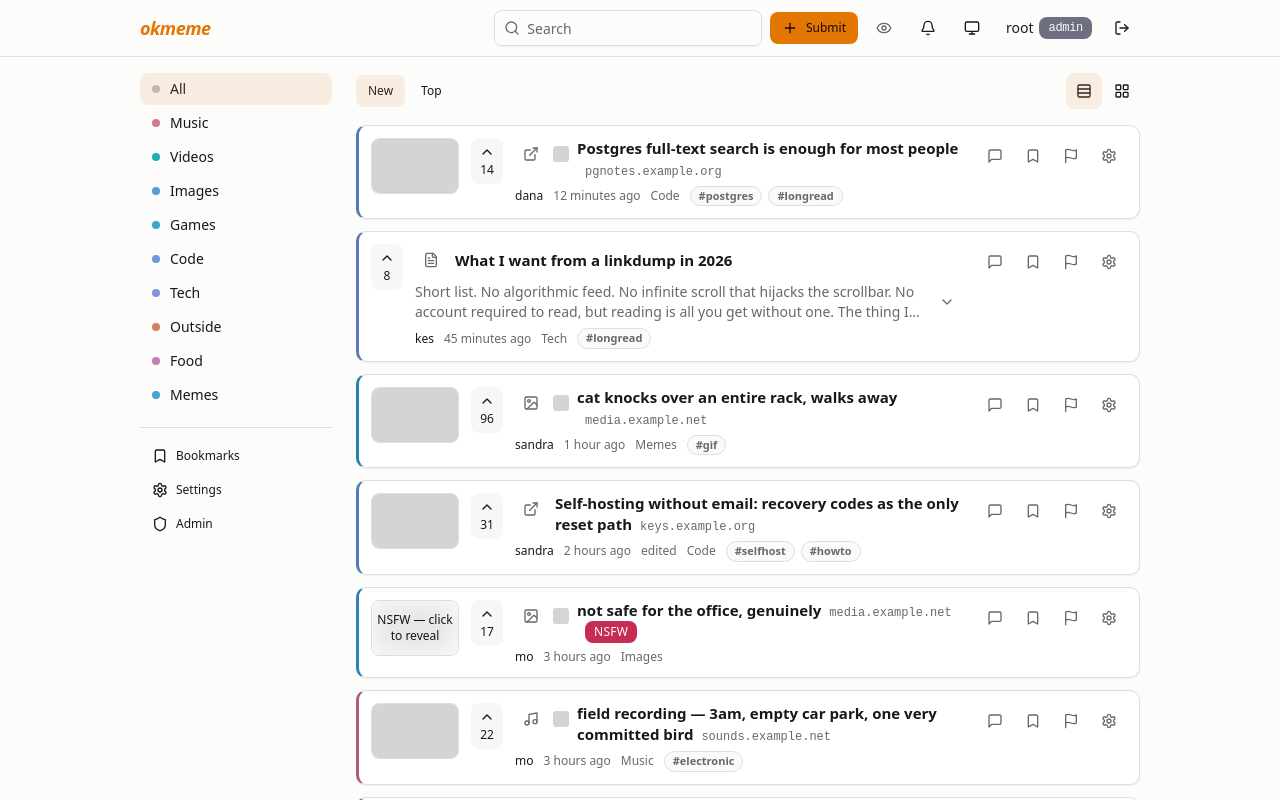
Test: view as › previews the feed as a lower tier from the header, read-only, and leaves again
Press Enter in the button named "View the site as a lower tier", box [866,10,902,46]
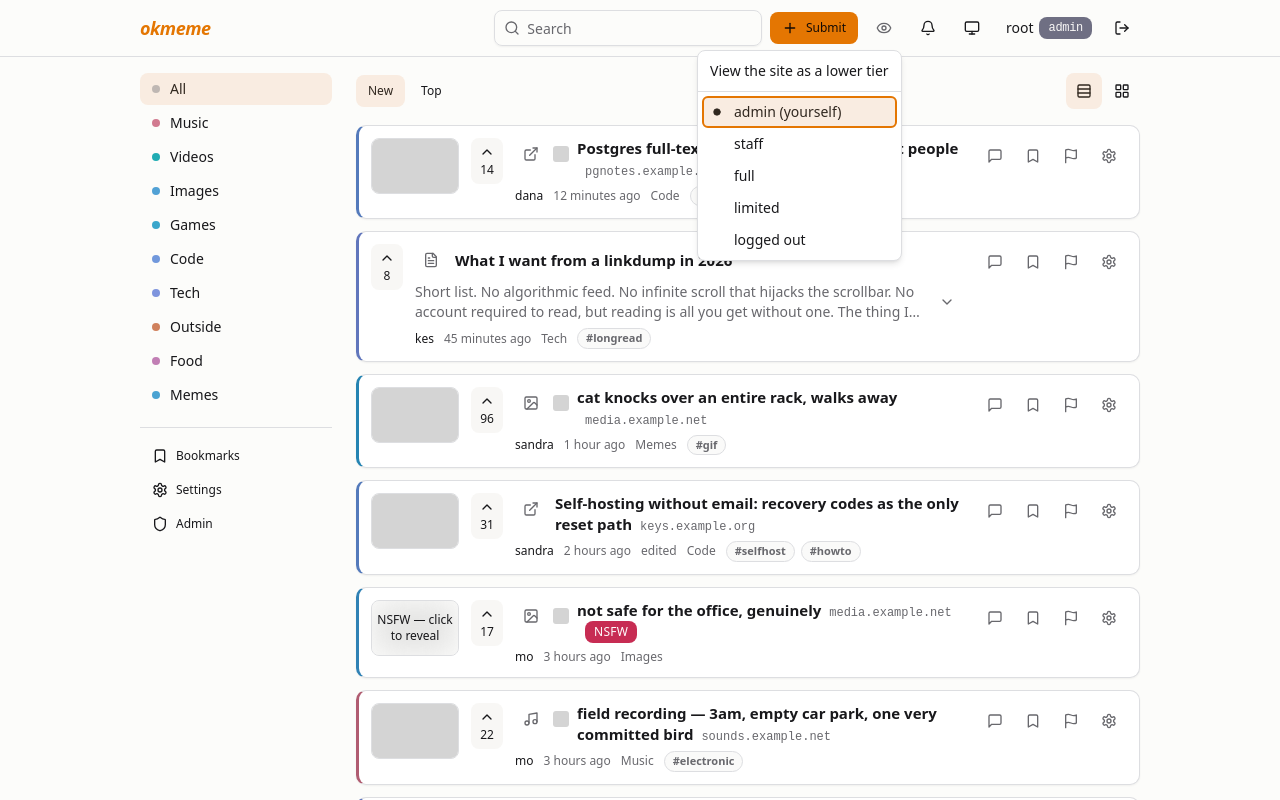
Click the menu item "limited" at (757, 208), box [734,198,780,217]
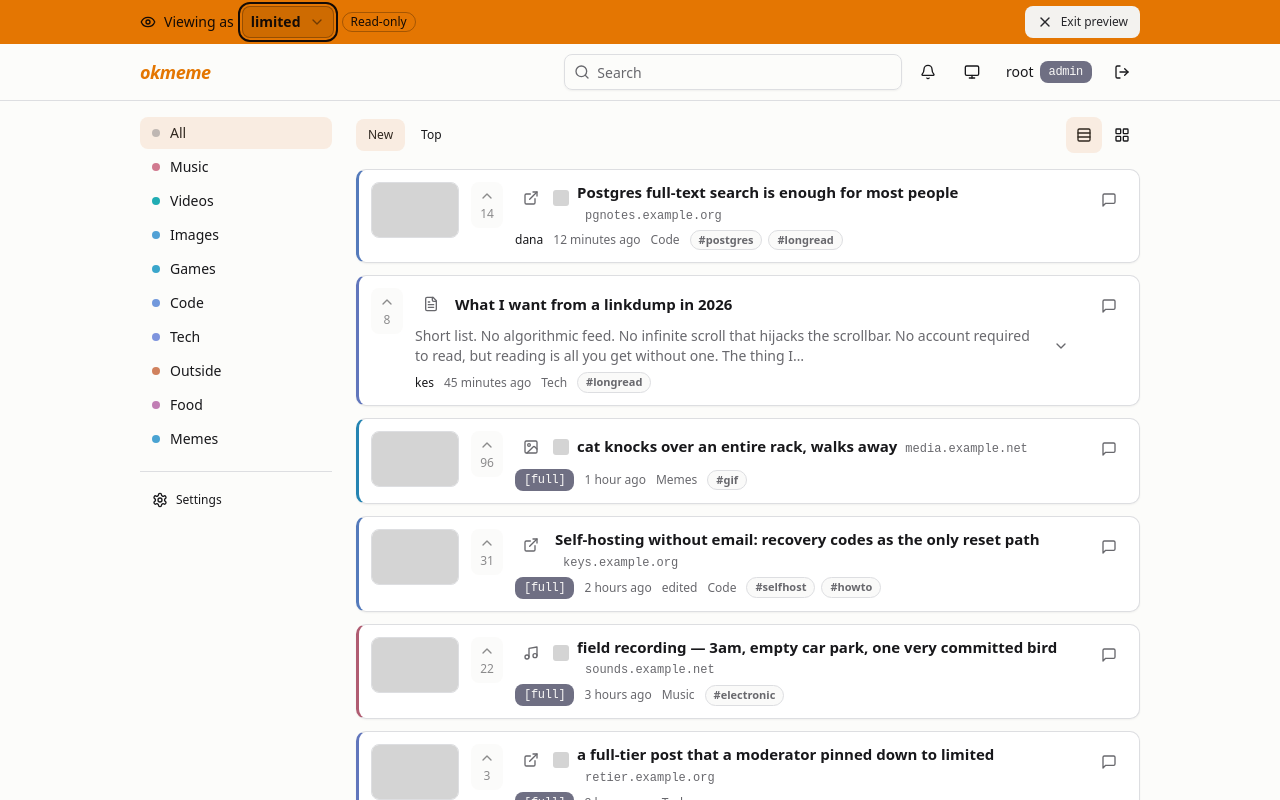
Result: the text labelled "View the site as a lower tier" is gone
Result: the text "sandra" is gone
Result: the text "full" next to "1 hour ago" is shown at [531,473,558,487]
Click the button "Exit preview" at (1082, 22), box [1025,6,1140,38]
(page scrolled)
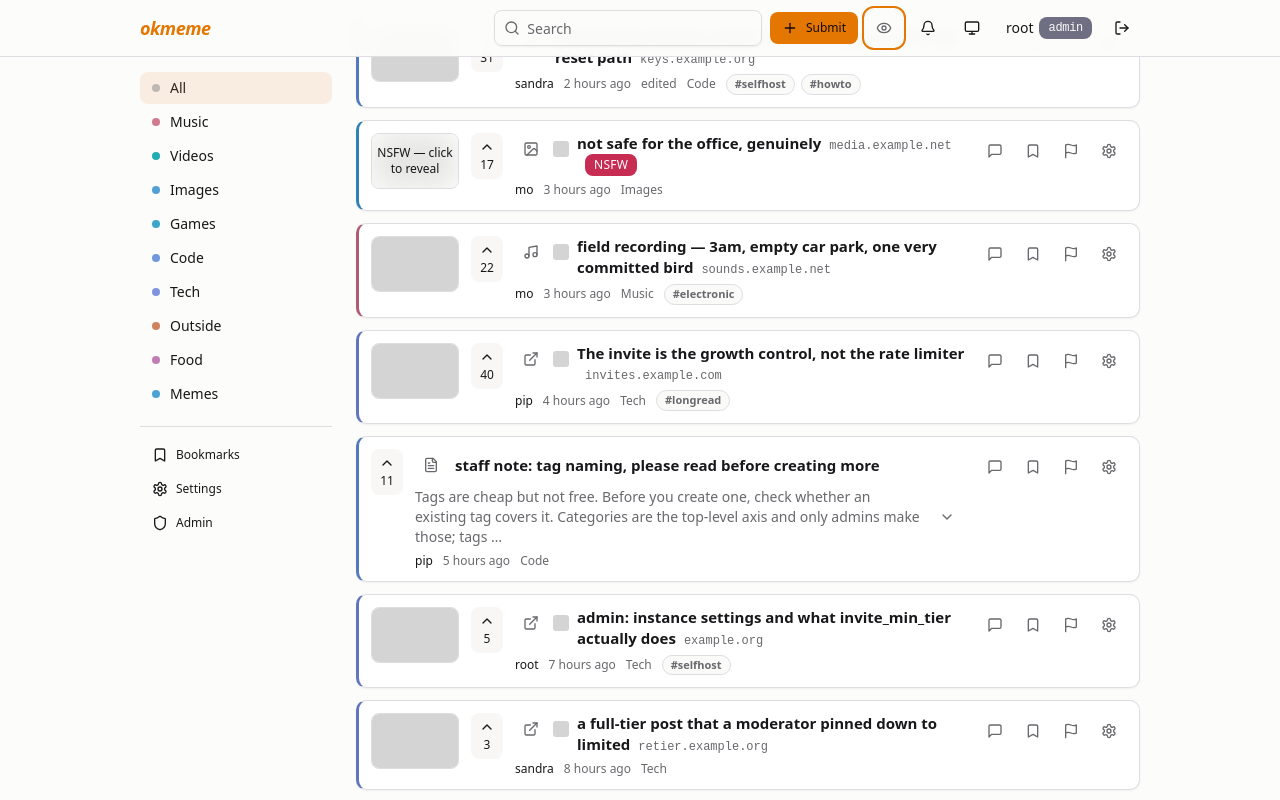
Result: the text "pip" below "invites.example.com" is shown at [515,392,533,409]
